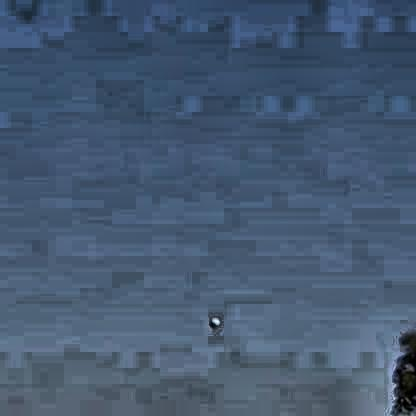golfball: (206, 314, 217, 325)
